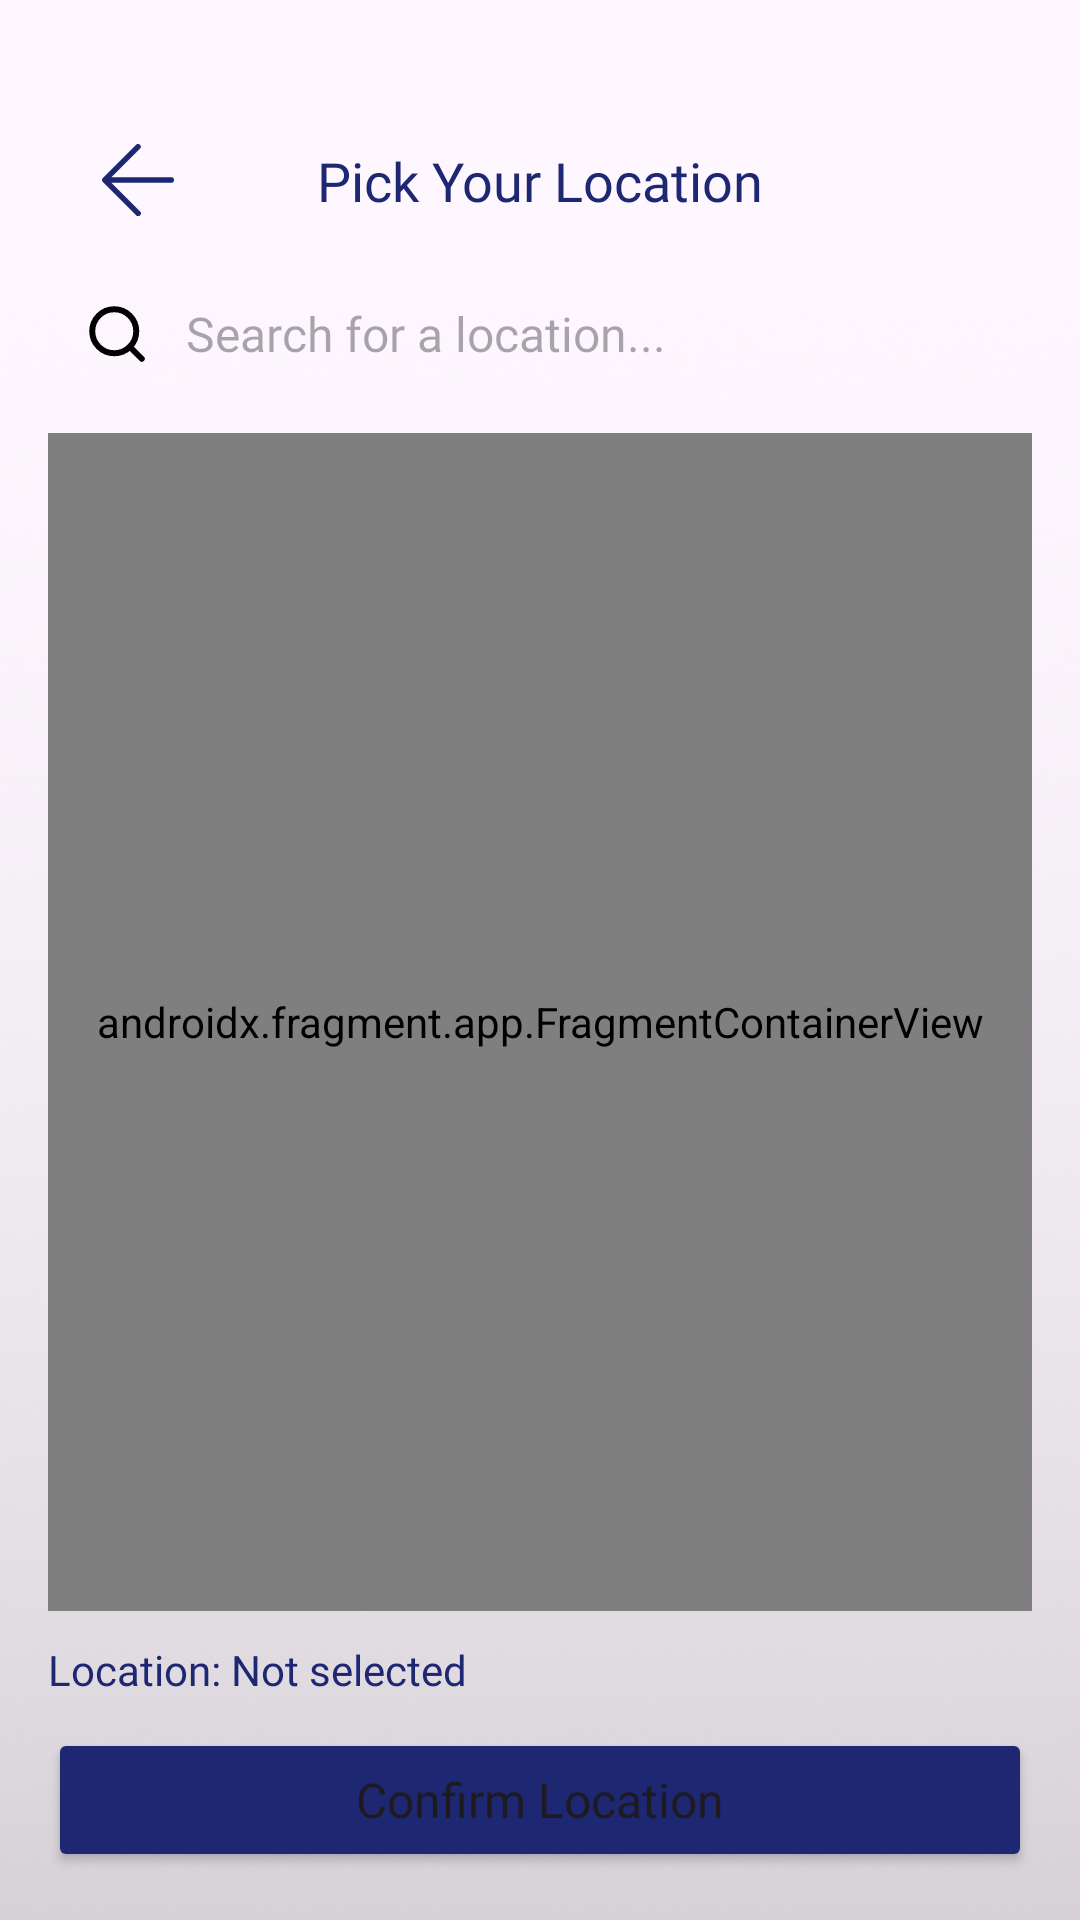

Locate icon controls on the screen. Image size 1080 x 1920, boxes as {"left": x1, "top": y1, "right": x2, "bottom": y2}.
Back: {"left": 102, "top": 144, "right": 174, "bottom": 216}
